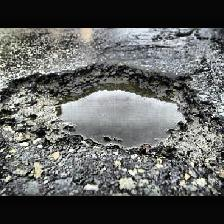pothole: (0, 60, 210, 154)
